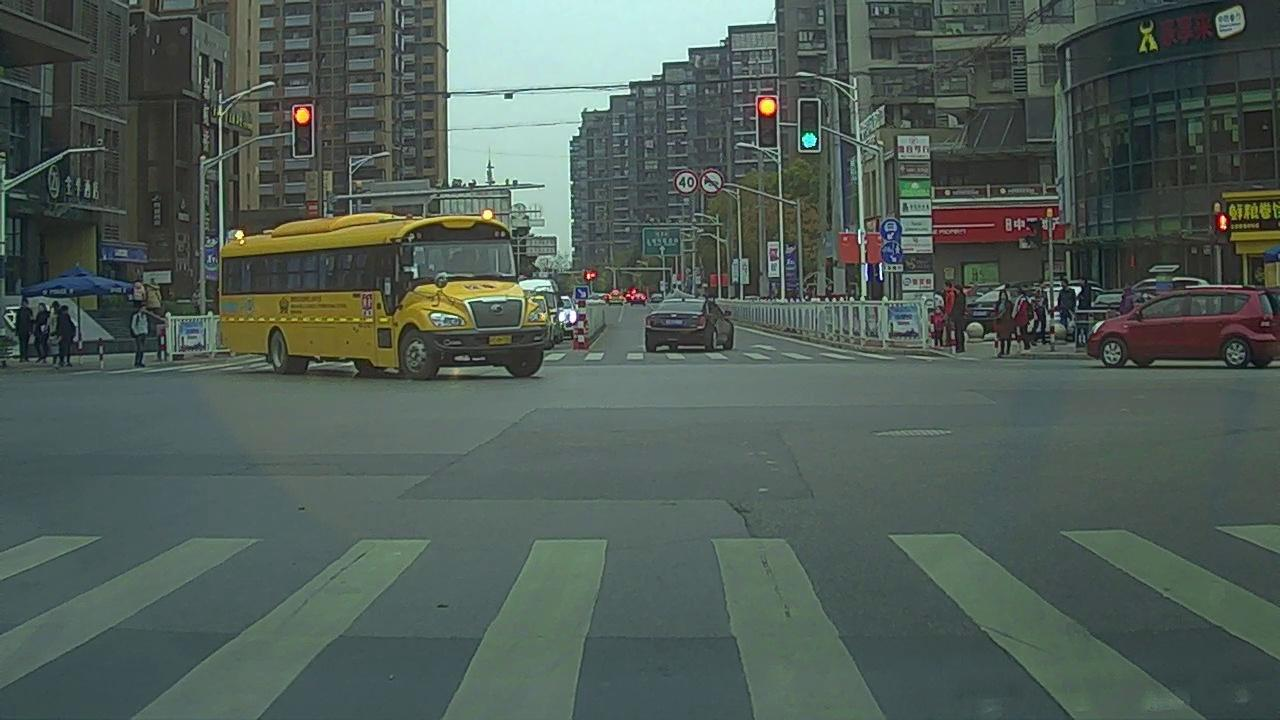traffic_light: (758, 97, 777, 147), (293, 107, 312, 155)
